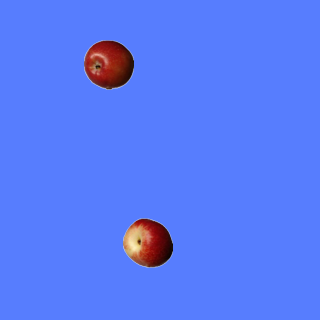Apple Braeburn: (83, 39, 133, 89)
Nectarine: (122, 217, 172, 267)
